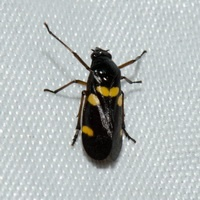insect: (44, 22, 146, 159)
